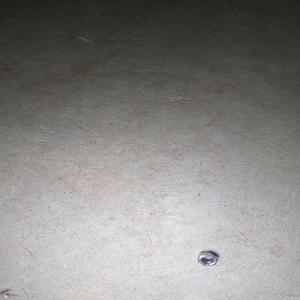Nut: (195, 251, 219, 266)
